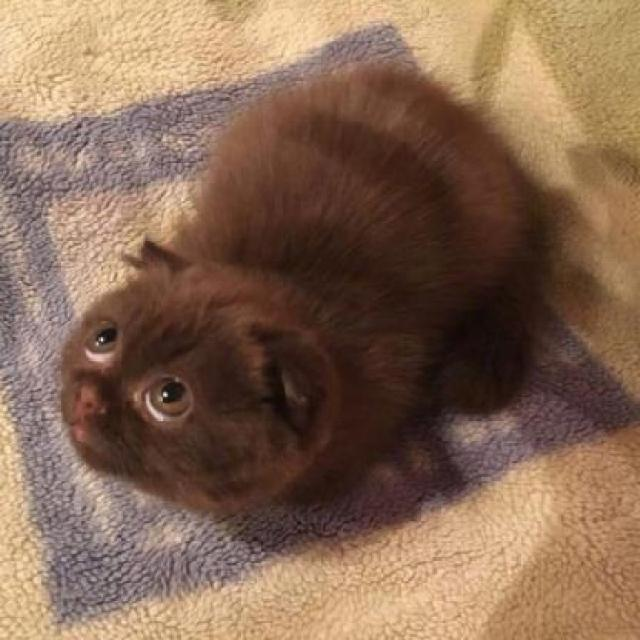cat: (47, 73, 578, 504)
